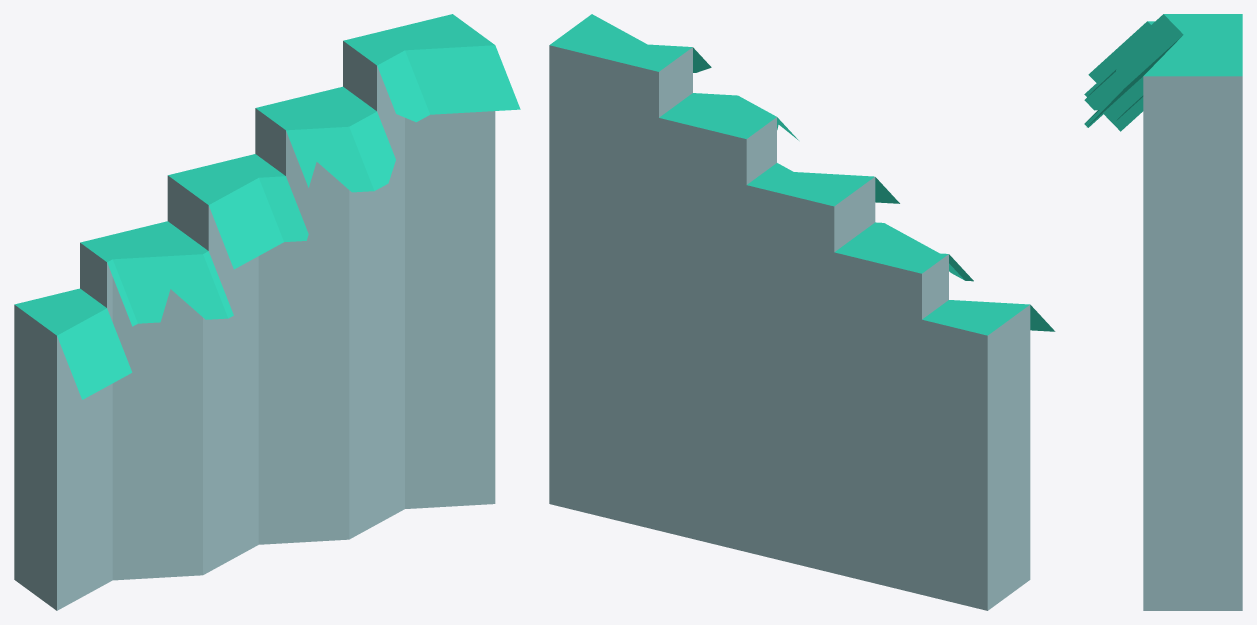
The model's file is cliff_stairBorder_upper_right_stone.fbx.
The picture shows the model from 3 angles, left to right: view 1: azimuth 30°, elevation 25°; view 2: azimuth 150°, elevation 25°; view 3: azimuth 270°, elevation 25°; orthographic projection. The views are drawn at different scales.
Visible parts, largest first — view 1: cliff_top_stone; view 2: cliff_top_stone; view 3: cliff_top_stone.
Boxes of the visible parts, bbox=[...] form: cliff_top_stone: bbox=[14, 14, 520, 610]; cliff_top_stone: bbox=[549, 14, 1055, 610]; cliff_top_stone: bbox=[1084, 14, 1242, 610].
Bounding box in the file's own units: 10 × 10 × 2.68.
